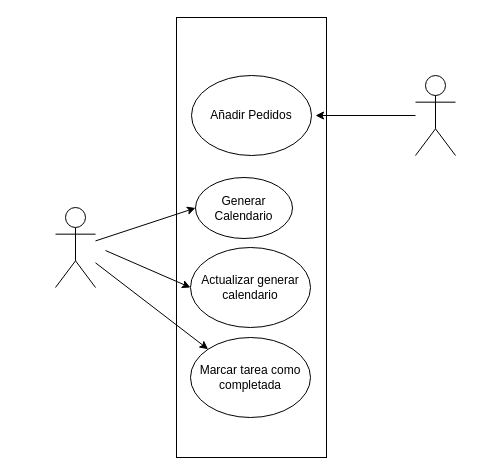
Some shapes in this 483 by 475 pixel diagram are drawn without their labels. Here are the shapes that lost their labels. From the top down, the box of each, then its label:
(414, 74, 456, 156): Comprador
(54, 206, 96, 288): Empleado Producción
